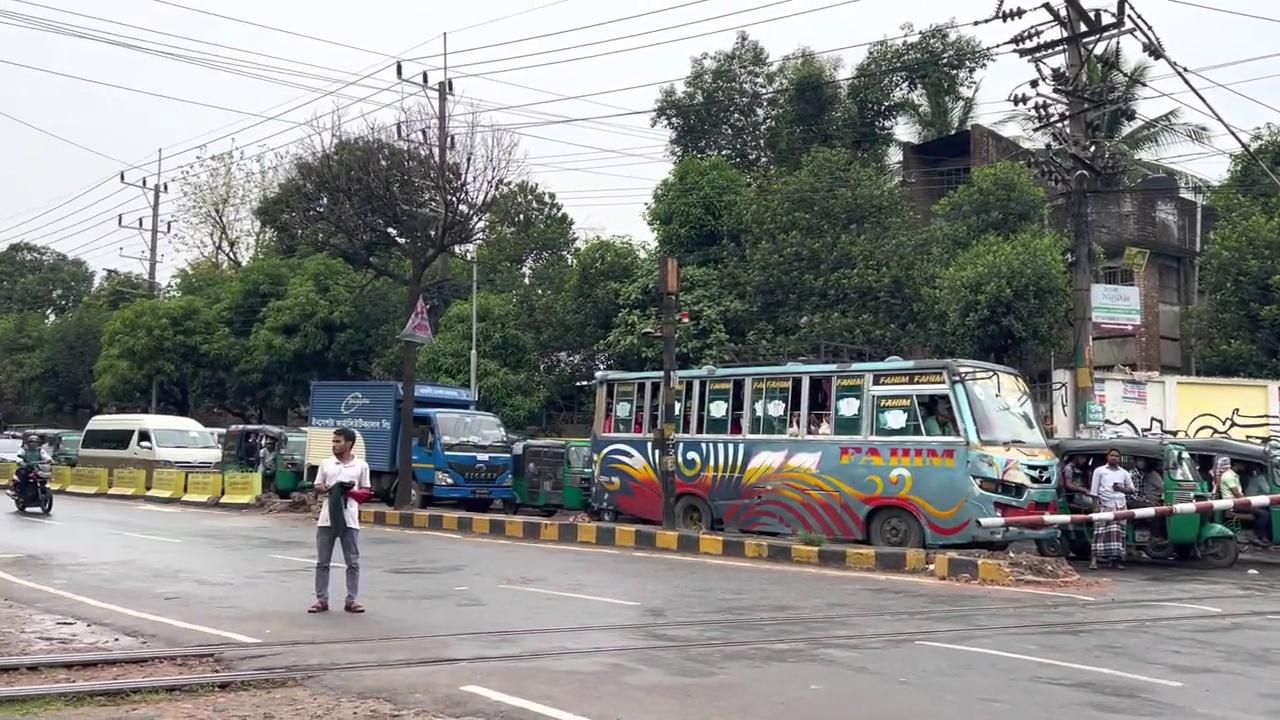Car: (355, 503, 1100, 601)
Curb: (5, 457, 54, 514)
Fence: (306, 427, 372, 613)
Garbage: (657, 254, 679, 530), (393, 339, 419, 509)
Motorcycle: (1, 590, 1274, 705)
Rickshaw: (585, 355, 1067, 551)
